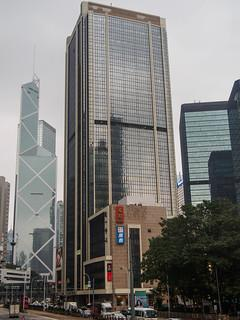building: (61, 1, 180, 294), (8, 76, 58, 288)
